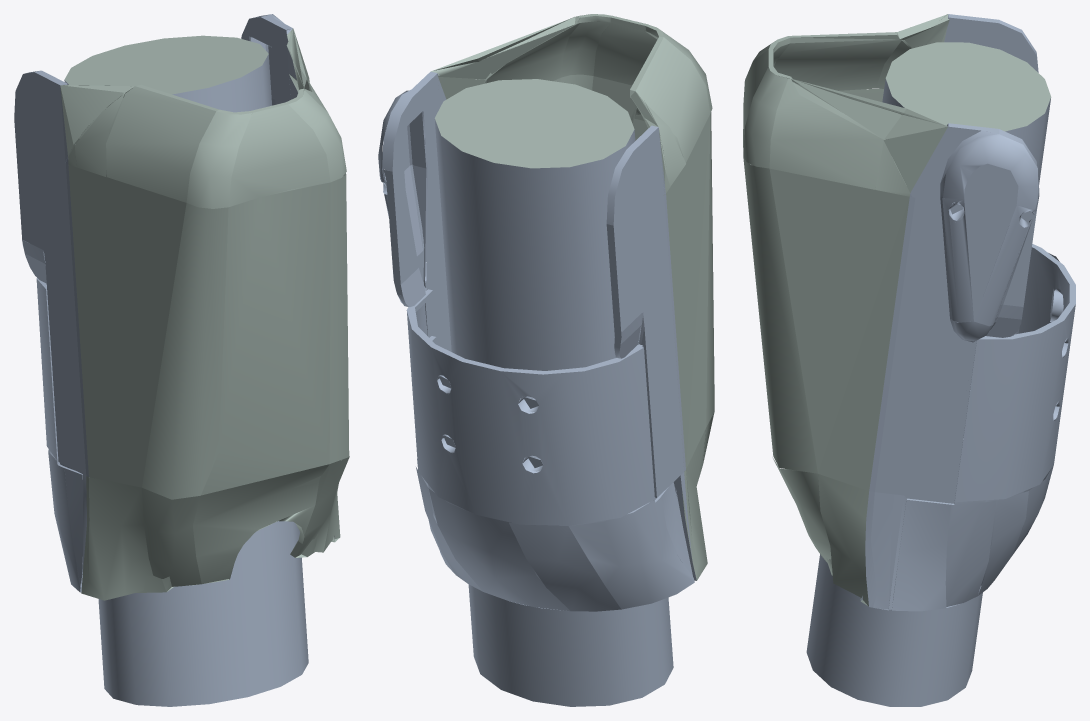
Rendered from icub_l_arm.dae.
3 renders of one model, left to right at view 1: azimuth 30°, elevation 25°; view 2: azimuth 150°, elevation 25°; view 3: azimuth 270°, elevation 25°, orthographic. The views are drawn at different scales.
Parts seen in each view (by area): view 1: l_upperarm_mesh, l_arm_cyl_mesh; view 2: l_upperarm_mesh, l_arm_cyl_mesh; view 3: l_upperarm_mesh, l_arm_cyl_mesh.
Boxes of the visible parts, x1,y1,x2,y2 form: l_upperarm_mesh: [14, 14, 349, 600]; l_arm_cyl_mesh: [64, 35, 308, 706]; l_upperarm_mesh: [378, 14, 714, 611]; l_arm_cyl_mesh: [434, 79, 673, 706]; l_upperarm_mesh: [743, 14, 1075, 611]; l_arm_cyl_mesh: [806, 42, 1051, 706].
Size of the model in its own units: 0.0716 by 0.0812 by 0.1656.
